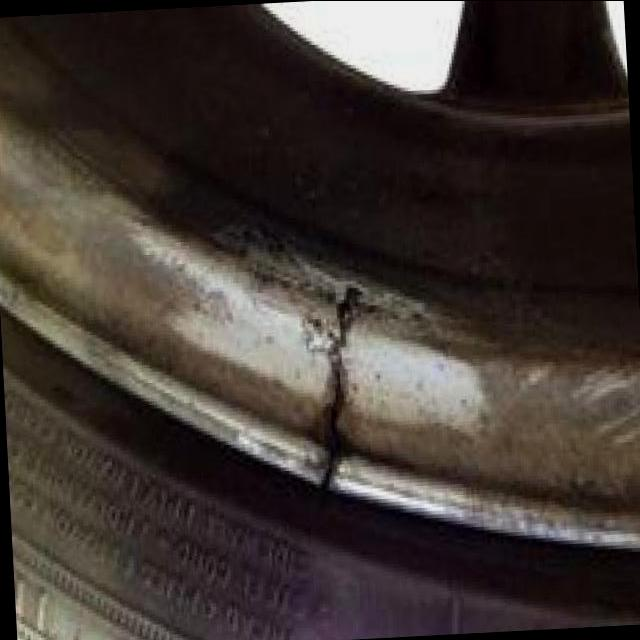defect: (294, 276, 362, 502)
